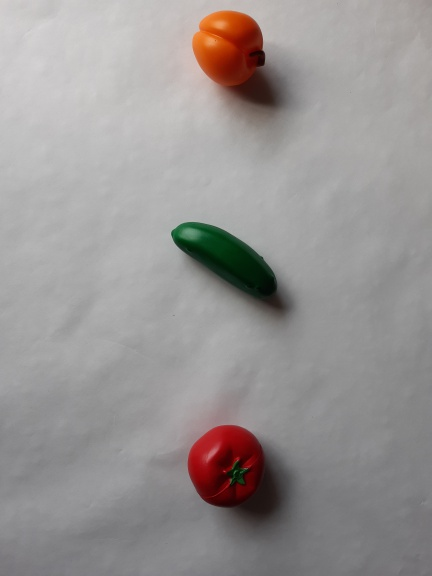apricot: (184, 2, 271, 92)
cucumber: (159, 207, 284, 312)
tomato: (178, 419, 272, 513)
